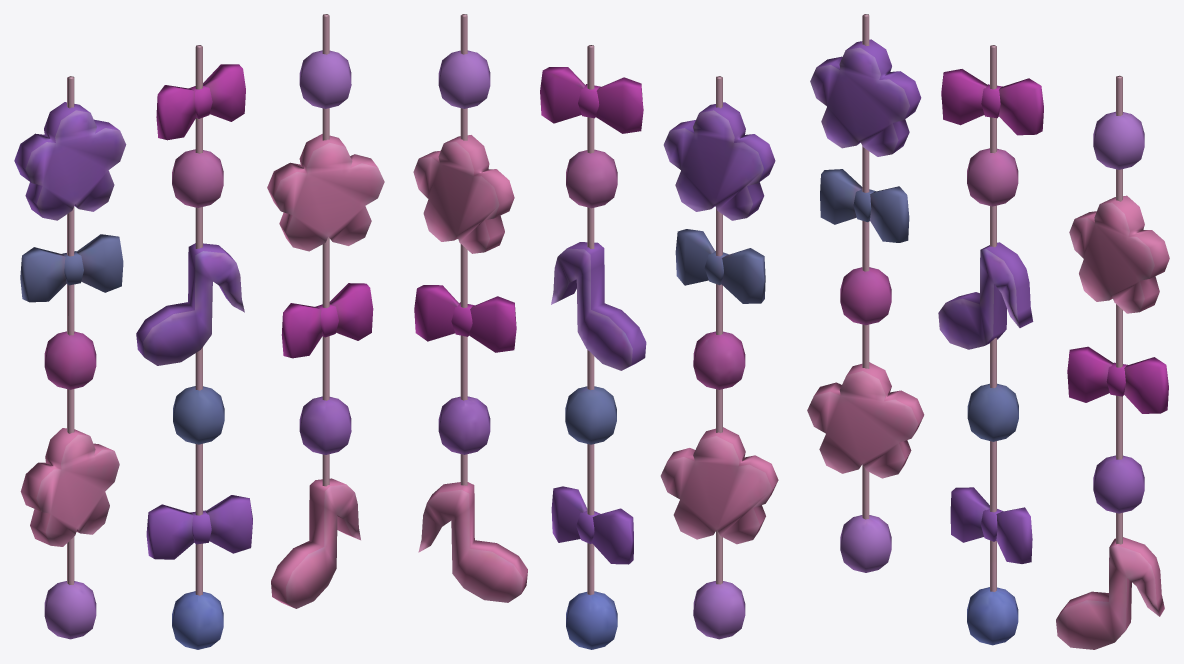
The picture shows the model from 3 angles, left to right: view 1: azimuth 30°, elevation 25°; view 2: azimuth 150°, elevation 25°; view 3: azimuth 330°, elevation 25°; orthographic projection.
Size of the model in its own units: 8.74 by 14.02 by 1.1.
1 material, 1 textured.
